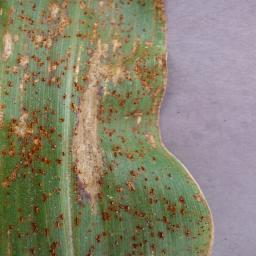Corn_Blight: (0, 0, 68, 256), (119, 1, 170, 256), (70, 0, 119, 207), (170, 194, 214, 256), (75, 206, 120, 256)
